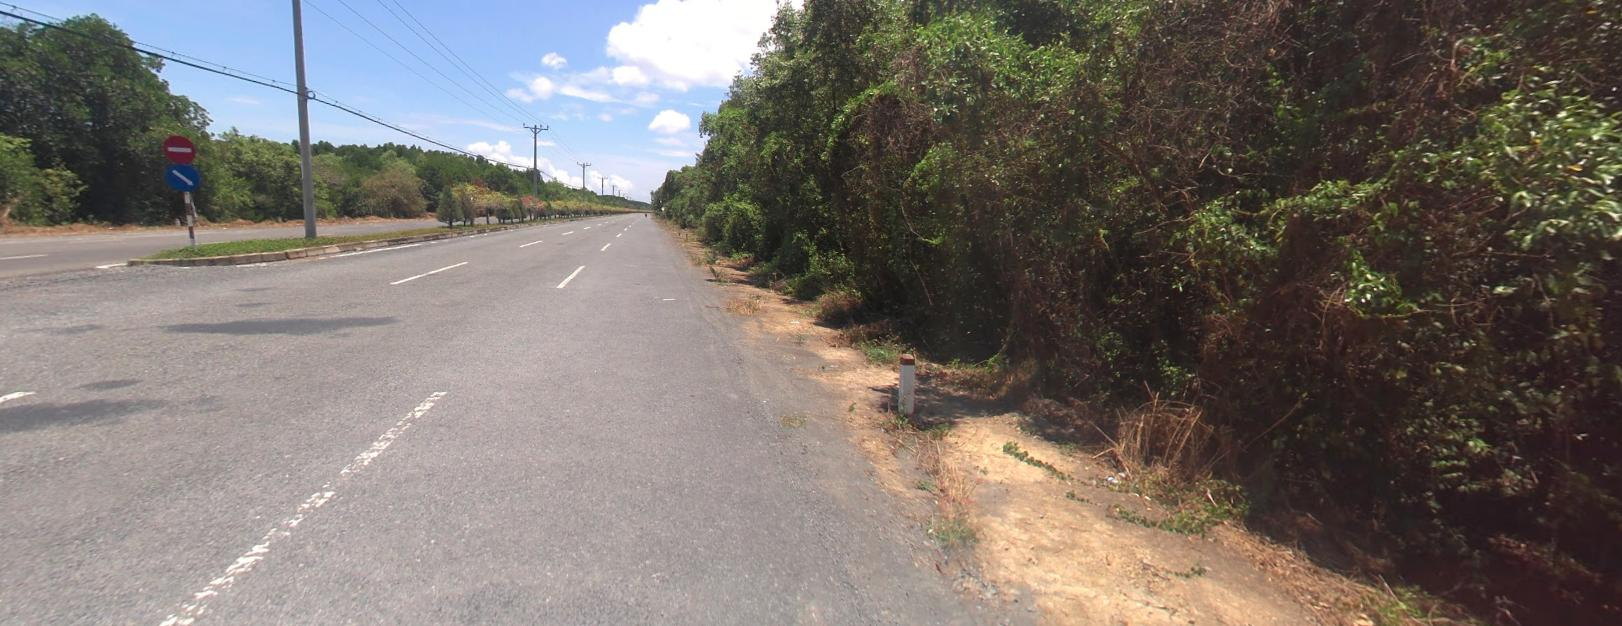Cam nguoc chieu: (163, 135, 194, 161)
Hieu lenh: (166, 163, 198, 189)
